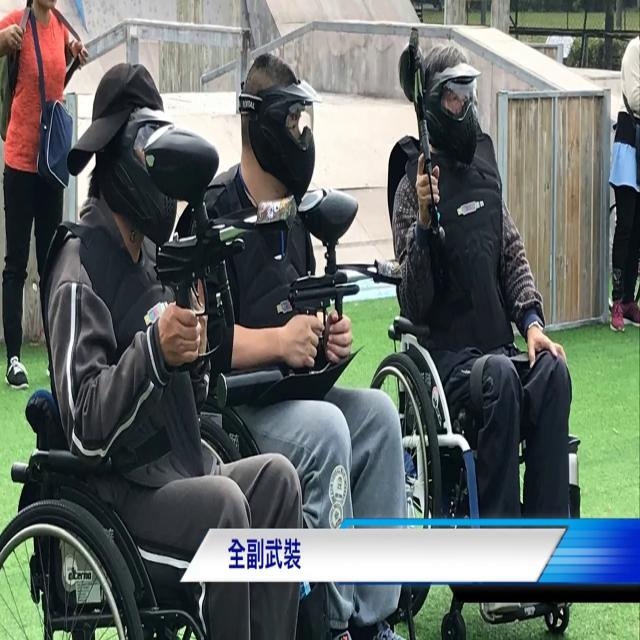wheelchairs: (358, 246, 597, 640), (1, 442, 316, 640)
